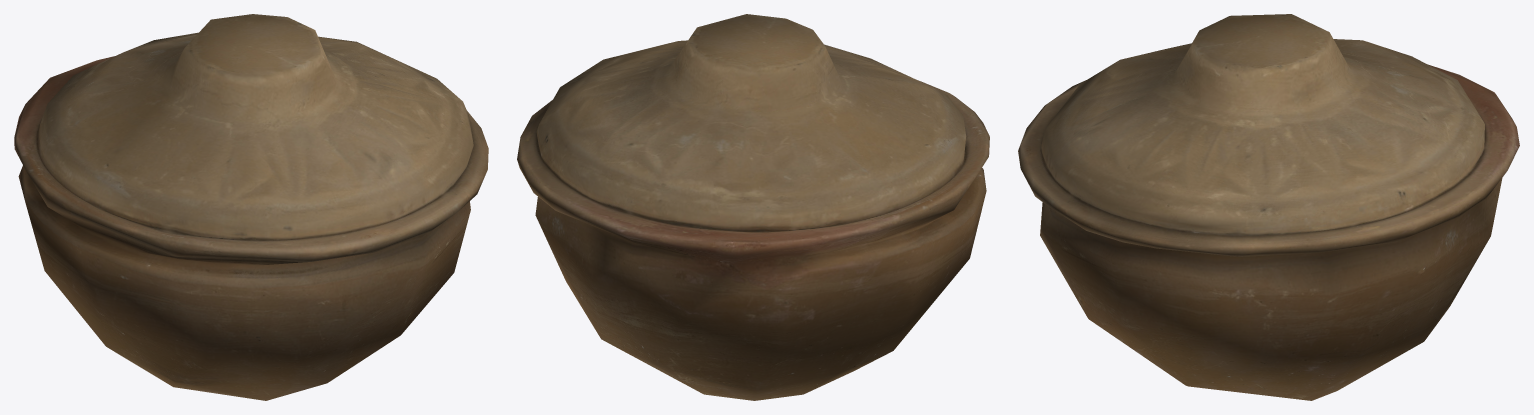
Rendered from prop_pot.glb.
3 renders of one model, left to right at view 1: azimuth 30°, elevation 25°; view 2: azimuth 150°, elevation 25°; view 3: azimuth 270°, elevation 25°, orthographic. The views are drawn at different scales.
Parts seen in each view (by area): view 1: uepibauva_LOD0_TIER3_000; view 2: uepibauva_LOD0_TIER3_000; view 3: uepibauva_LOD0_TIER3_000.
Boxes of the visible parts, x1,y1,x2,y2 form: uepibauva_LOD0_TIER3_000: [14, 14, 488, 400]; uepibauva_LOD0_TIER3_000: [517, 14, 989, 400]; uepibauva_LOD0_TIER3_000: [1018, 14, 1519, 400].
Bounding box in the file's own units: 0.1414 × 0.1058 × 0.1478.
1 material, 1 textured.
